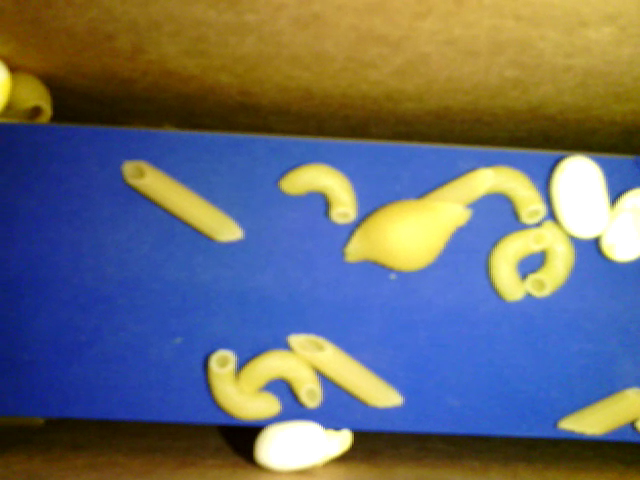elbow: (207, 348, 282, 420), (240, 348, 327, 408), (466, 166, 544, 231), (527, 207, 577, 306), (276, 165, 357, 226), (482, 229, 547, 303)
penne: (122, 161, 243, 245), (290, 333, 404, 410), (555, 384, 638, 438)
shell: (344, 199, 472, 272), (4, 70, 55, 127)
